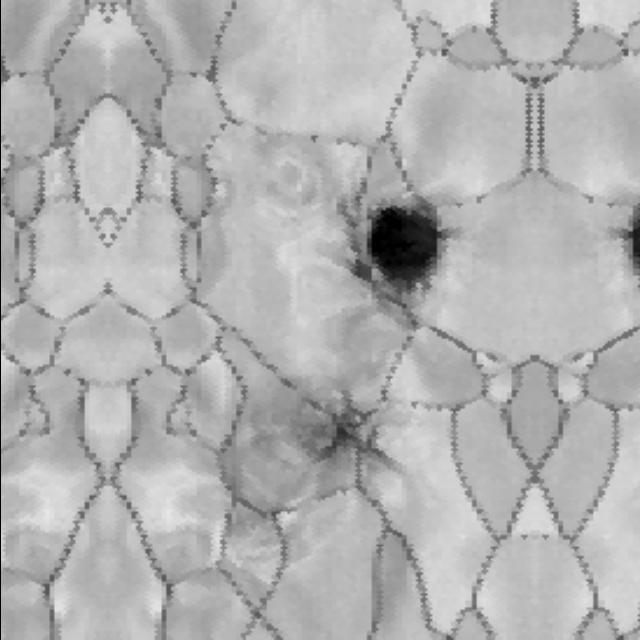good_void: (342, 186, 453, 300), (283, 392, 406, 475), (306, 128, 321, 149), (516, 532, 529, 543), (538, 532, 551, 543)
